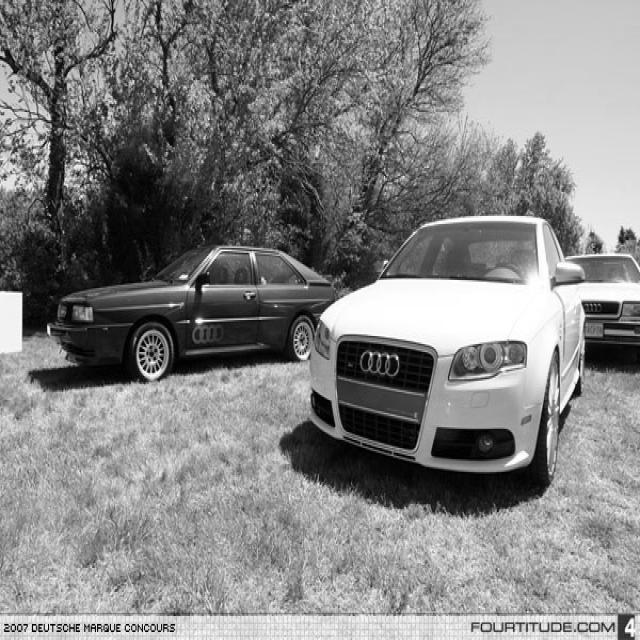car: (308, 213, 586, 485), (46, 244, 335, 382), (564, 251, 639, 354)
